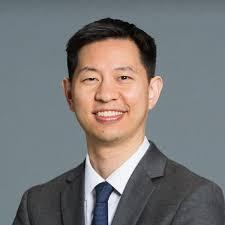normalMouth: (91, 107, 129, 123)
strokeEyeWeak: (75, 63, 138, 88)
